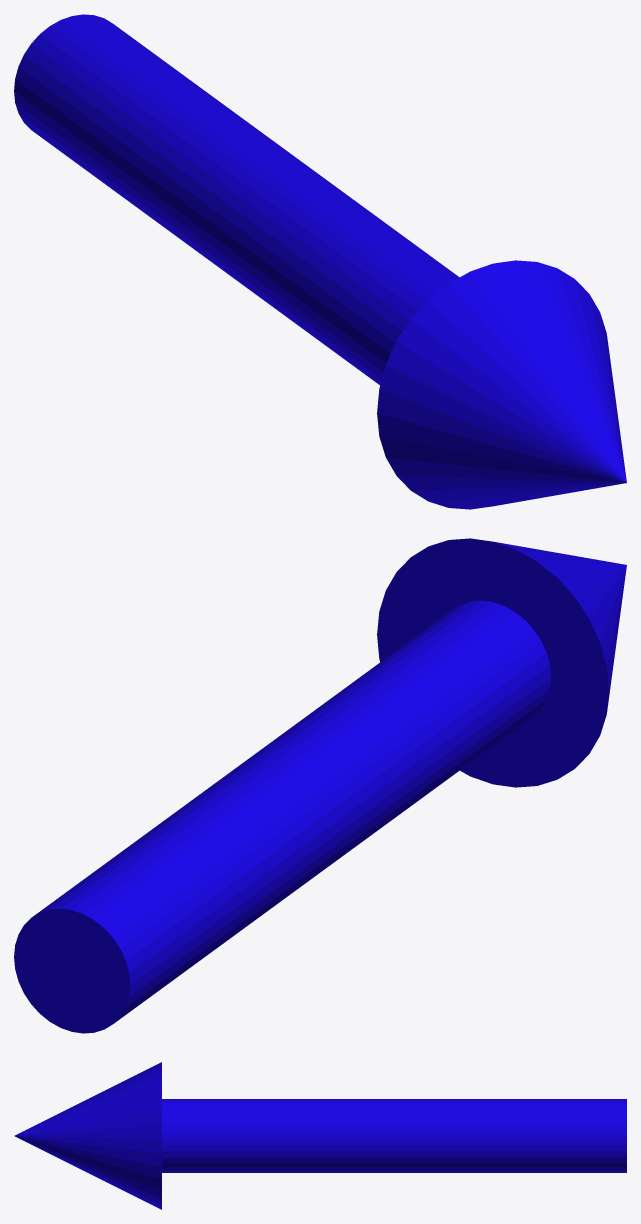
File: gizmo_up.glb
The picture shows the model from 3 angles, top to bottom: view 1: azimuth 30°, elevation 25°; view 2: azimuth 150°, elevation 25°; view 3: azimuth 270°, elevation 25°; orthographic projection. The views are drawn at different scales.
Parts seen in each view (by area): view 1: z; view 2: z; view 3: z.
Boxes of the visible parts, <box> form: z: <box>14,14,626,509</box>; z: <box>14,538,626,1033</box>; z: <box>14,1062,626,1209</box>.
Bounding box in the file's own units: 0.3772 × 0.3772 × 1.56.
